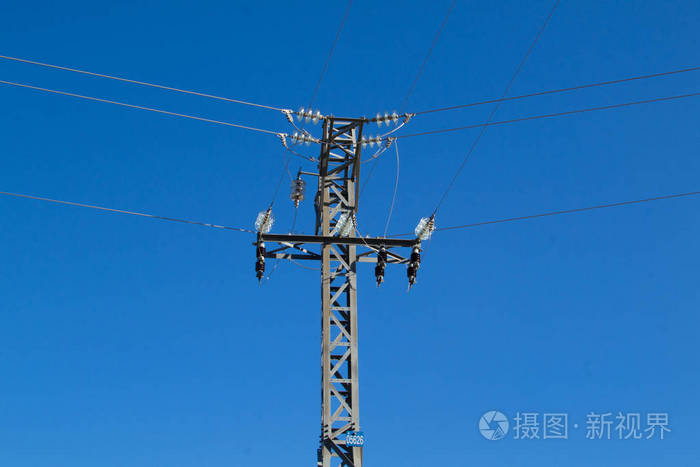insulator: (297, 104, 323, 125), (372, 107, 400, 125), (287, 129, 313, 148), (359, 132, 384, 149)
